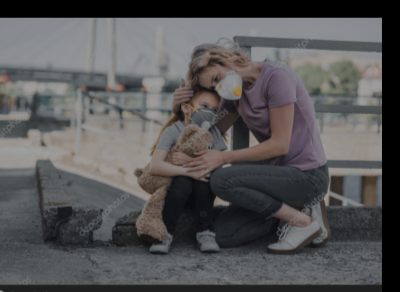with_mask: (207, 68, 243, 99), (187, 100, 219, 131)
